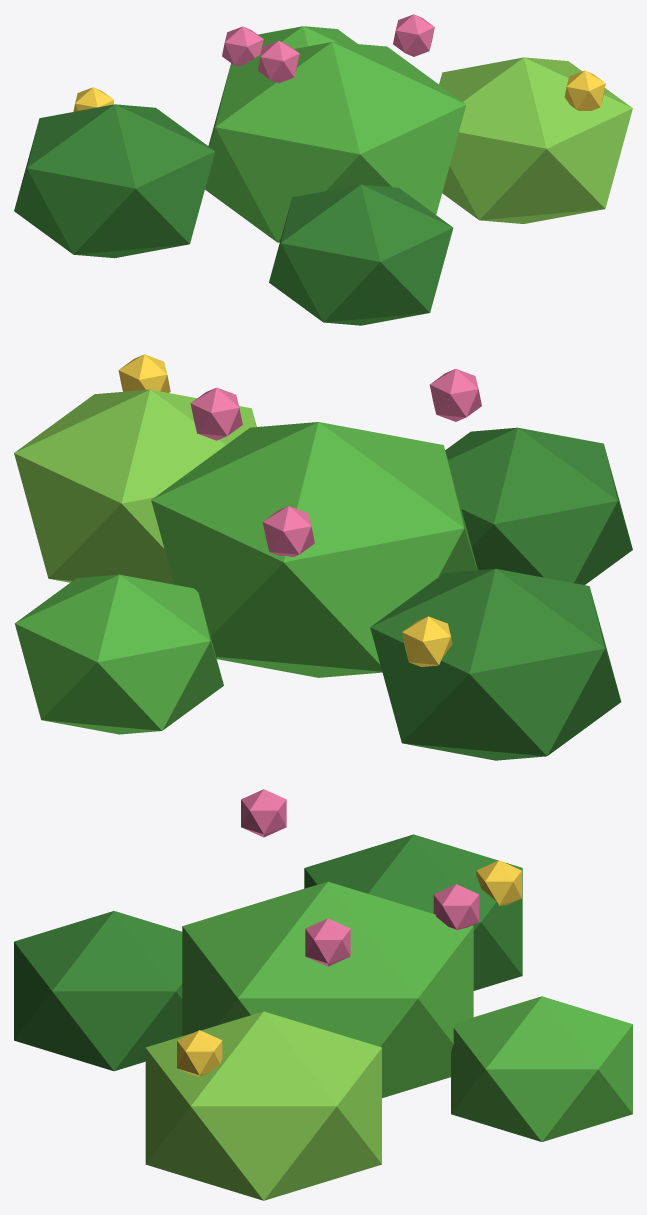
The model's file is arbustos.glb.
3 views of the same model, one above another, from view 1: azimuth 30°, elevation 25°; view 2: azimuth 150°, elevation 25°; view 3: azimuth 270°, elevation 25° (orthographic). The views are drawn at different scales.
Visible parts, largest first — view 1: corpo; view 2: corpo; view 3: corpo.
Part boxes in pixels (x1,y1,x2,y2): corpo: (14, 14, 632, 325); corpo: (14, 354, 632, 760); corpo: (14, 789, 632, 1200).
Size of the model in its own units: 0.6436 by 0.289 by 0.5786.
